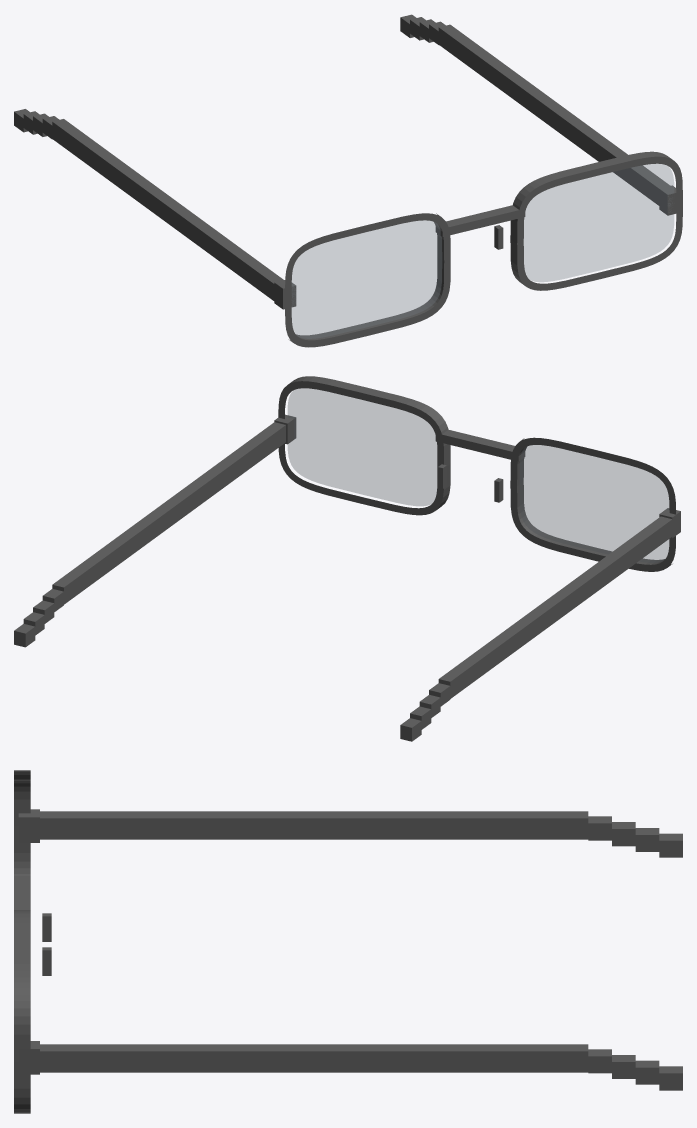
File: p-narrow.glb
3 renders of one model, top to bottom at view 1: azimuth 30°, elevation 25°; view 2: azimuth 150°, elevation 25°; view 3: azimuth 270°, elevation 25°, orthographic. The views are drawn at different scales.
Parts seen in each view (by area): view 1: Lens, Frame; view 2: Frame, Lens; view 3: Frame.
Part boxes in pixels (bbox=[...]): Lens: bbox=[292, 164, 673, 338]; Frame: bbox=[14, 14, 682, 347]; Frame: bbox=[14, 376, 680, 741]; Lens: bbox=[288, 388, 669, 562]; Frame: bbox=[14, 770, 682, 1113].
Size of the model in its own units: 120 by 32 by 142.
